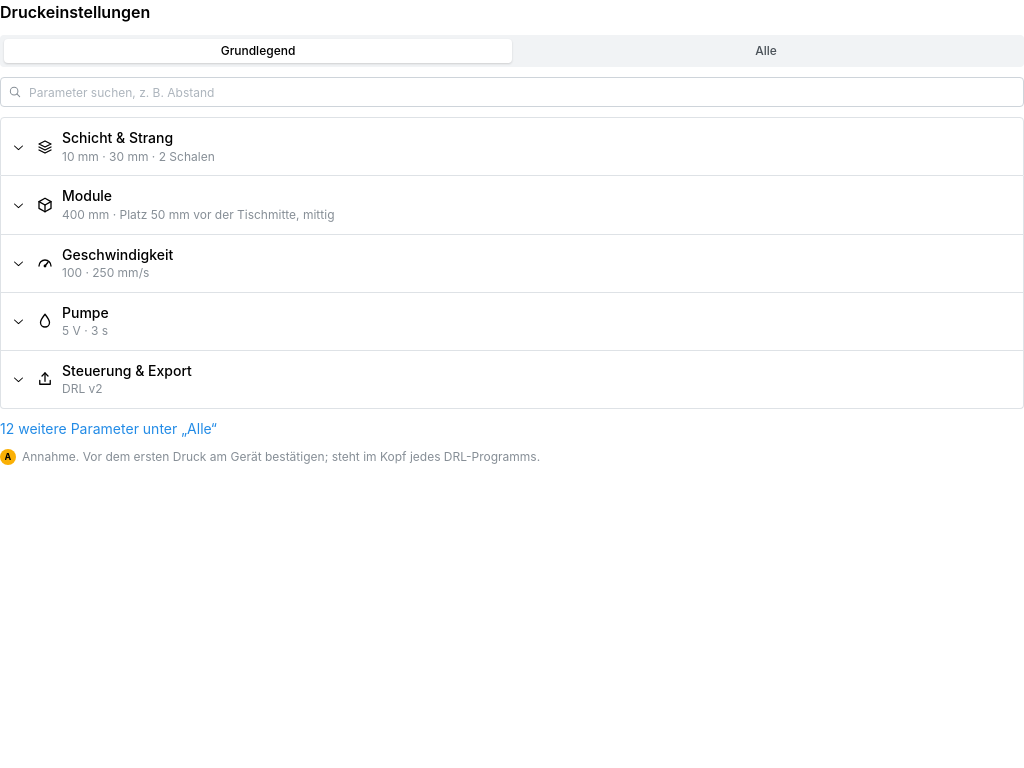
Test case: ParamsPanel › findet den Druckplatz über die Suche und zeigt ihn einmal
Type "druckplatz" into the field with test id "param-search". click: {"x": 512, "y": 92}
box: [0,77,1023,107]
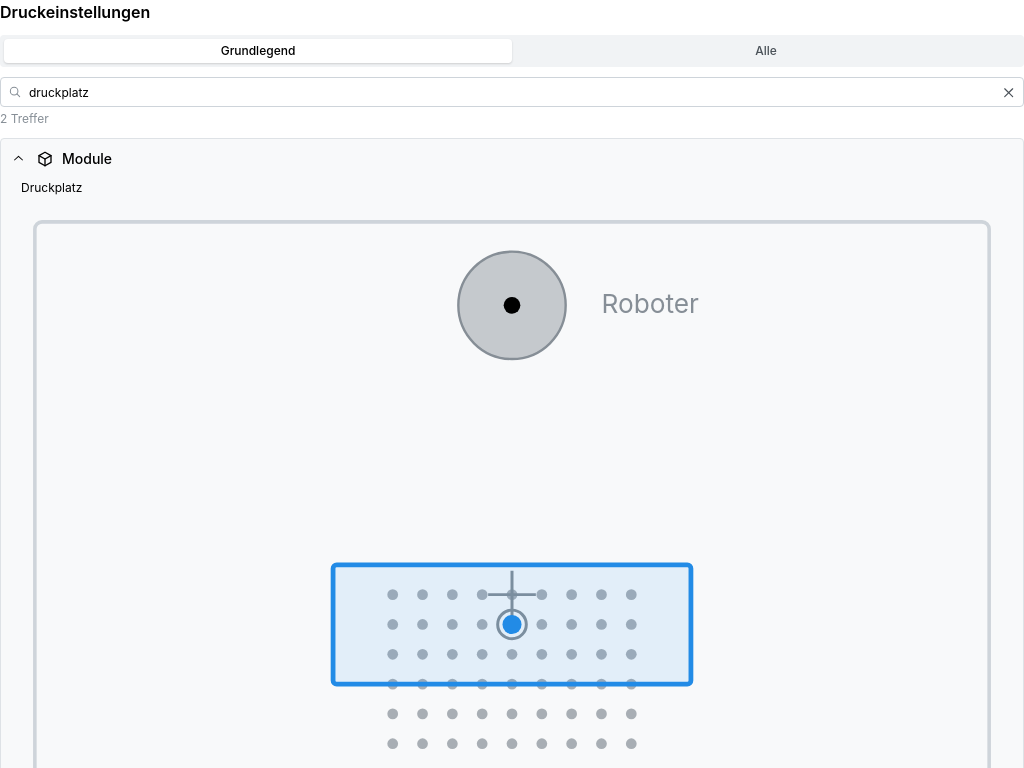
Result: the text with test id "param-search-result" reads "2 Treffer" at [0,111,49,126]
